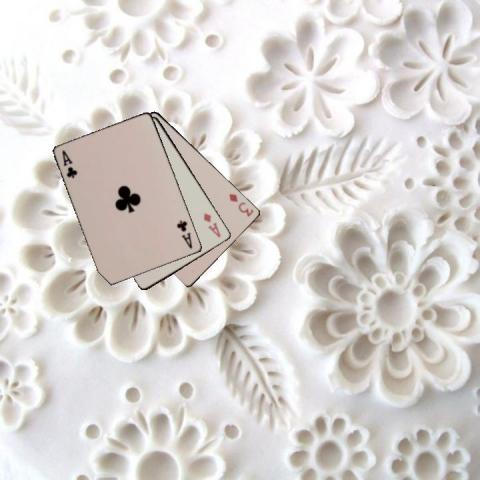3d: (226, 191, 255, 218)
Ac: (174, 217, 194, 250), (59, 148, 79, 180)
Ad: (201, 210, 222, 240)
